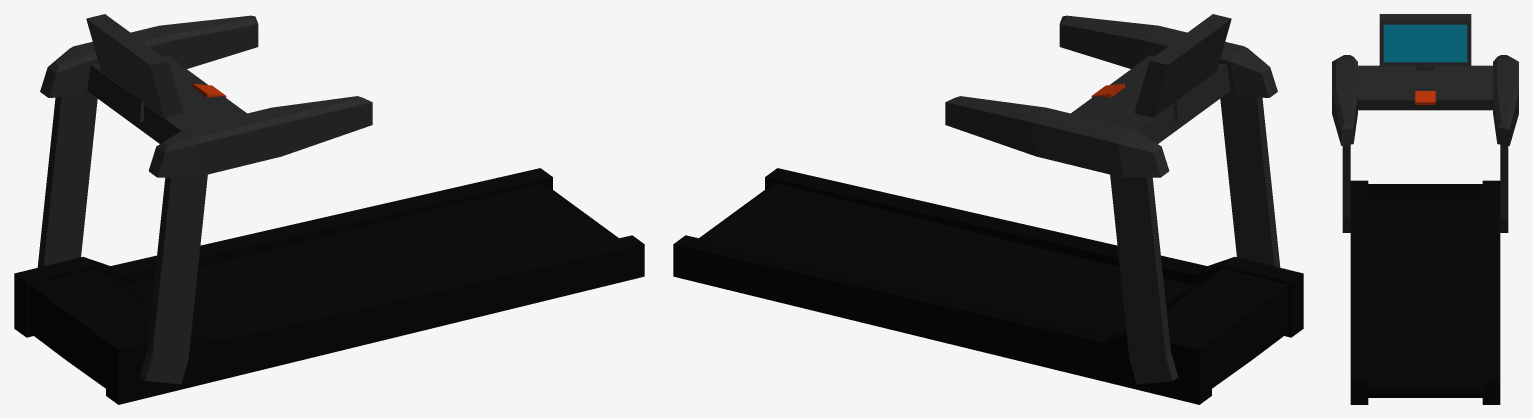
File: Treadmill.glb
3 views of the same model, side by side, from view 1: azimuth 30°, elevation 25°; view 2: azimuth 150°, elevation 25°; view 3: azimuth 270°, elevation 25° (orthographic). The views are drawn at different scales.
Visible parts, largest first — view 1: Treadmill; view 2: Treadmill; view 3: Treadmill.
Boxes of the visible parts, <box> form: Treadmill: <box>14,14,644,404</box>; Treadmill: <box>673,14,1303,404</box>; Treadmill: <box>1332,14,1518,404</box>.
Size of the model in its own units: 5.93 by 3.36 by 2.54.
Materials: 1 (1 with a texture image).
